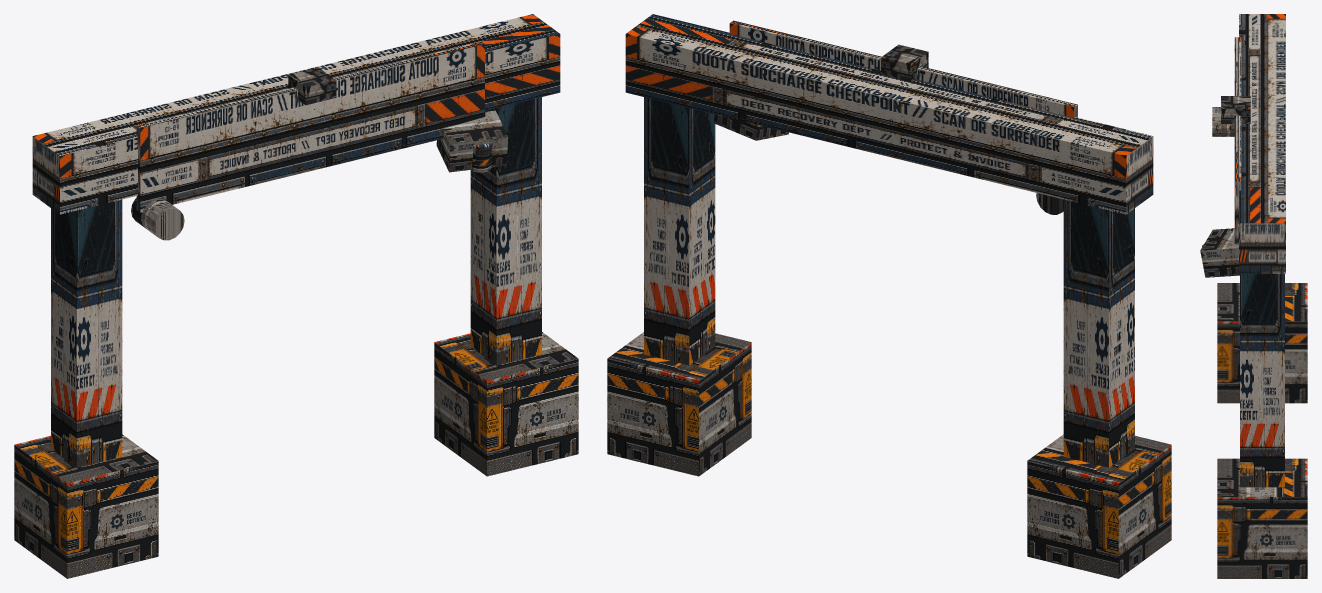
File: prop_security_checkpoint.glb
3 renders of one model, left to right at view 1: azimuth 30°, elevation 25°; view 2: azimuth 150°, elevation 25°; view 3: azimuth 270°, elevation 25°, orthographic. The views are drawn at different scales.
Visible parts, largest first — view 1: SecurityCheckpoint_Mesh; view 2: SecurityCheckpoint_Mesh; view 3: SecurityCheckpoint_Mesh.
Part boxes in pixels (box(x1,y1,x2,y2)): SecurityCheckpoint_Mesh: box(14, 14, 578, 578); SecurityCheckpoint_Mesh: box(607, 14, 1171, 578); SecurityCheckpoint_Mesh: box(1200, 14, 1307, 578).
Size of the model in its own units: 4.75 by 3.83 by 1.01.
1 material, 1 textured.
